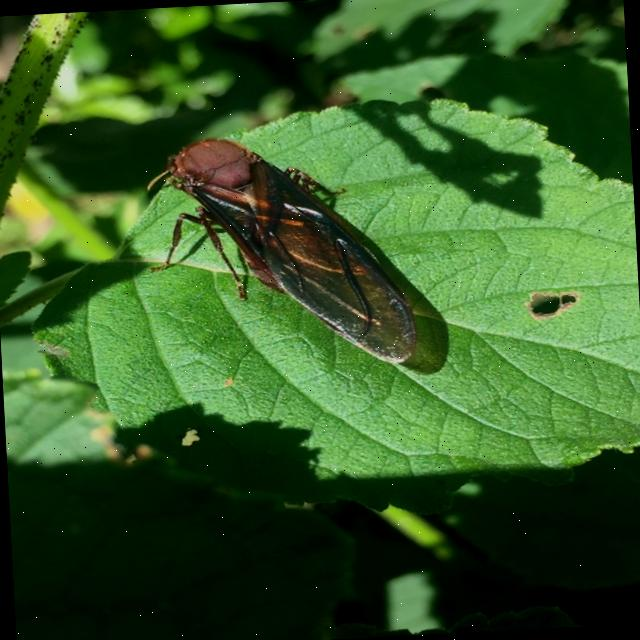Alive-Female-Alate: (142, 128, 419, 376)
